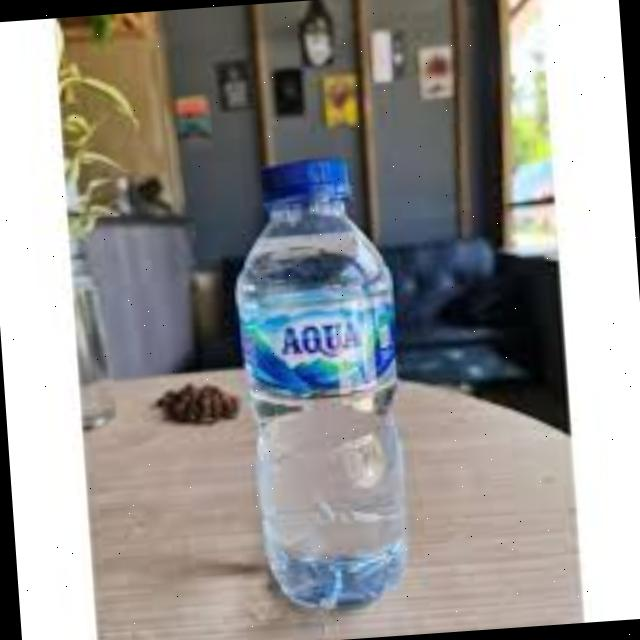trash: (200, 137, 460, 622)
